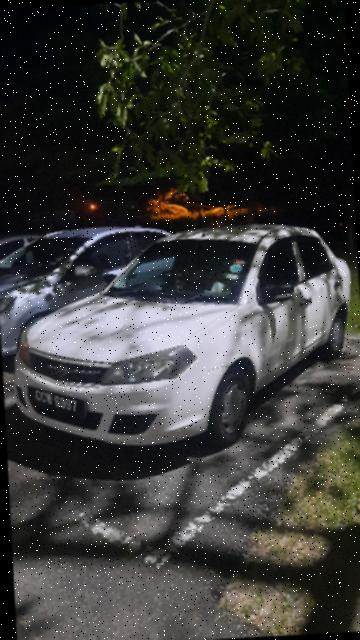License_Plate: (28, 384, 91, 423)
car: (4, 215, 360, 458)
